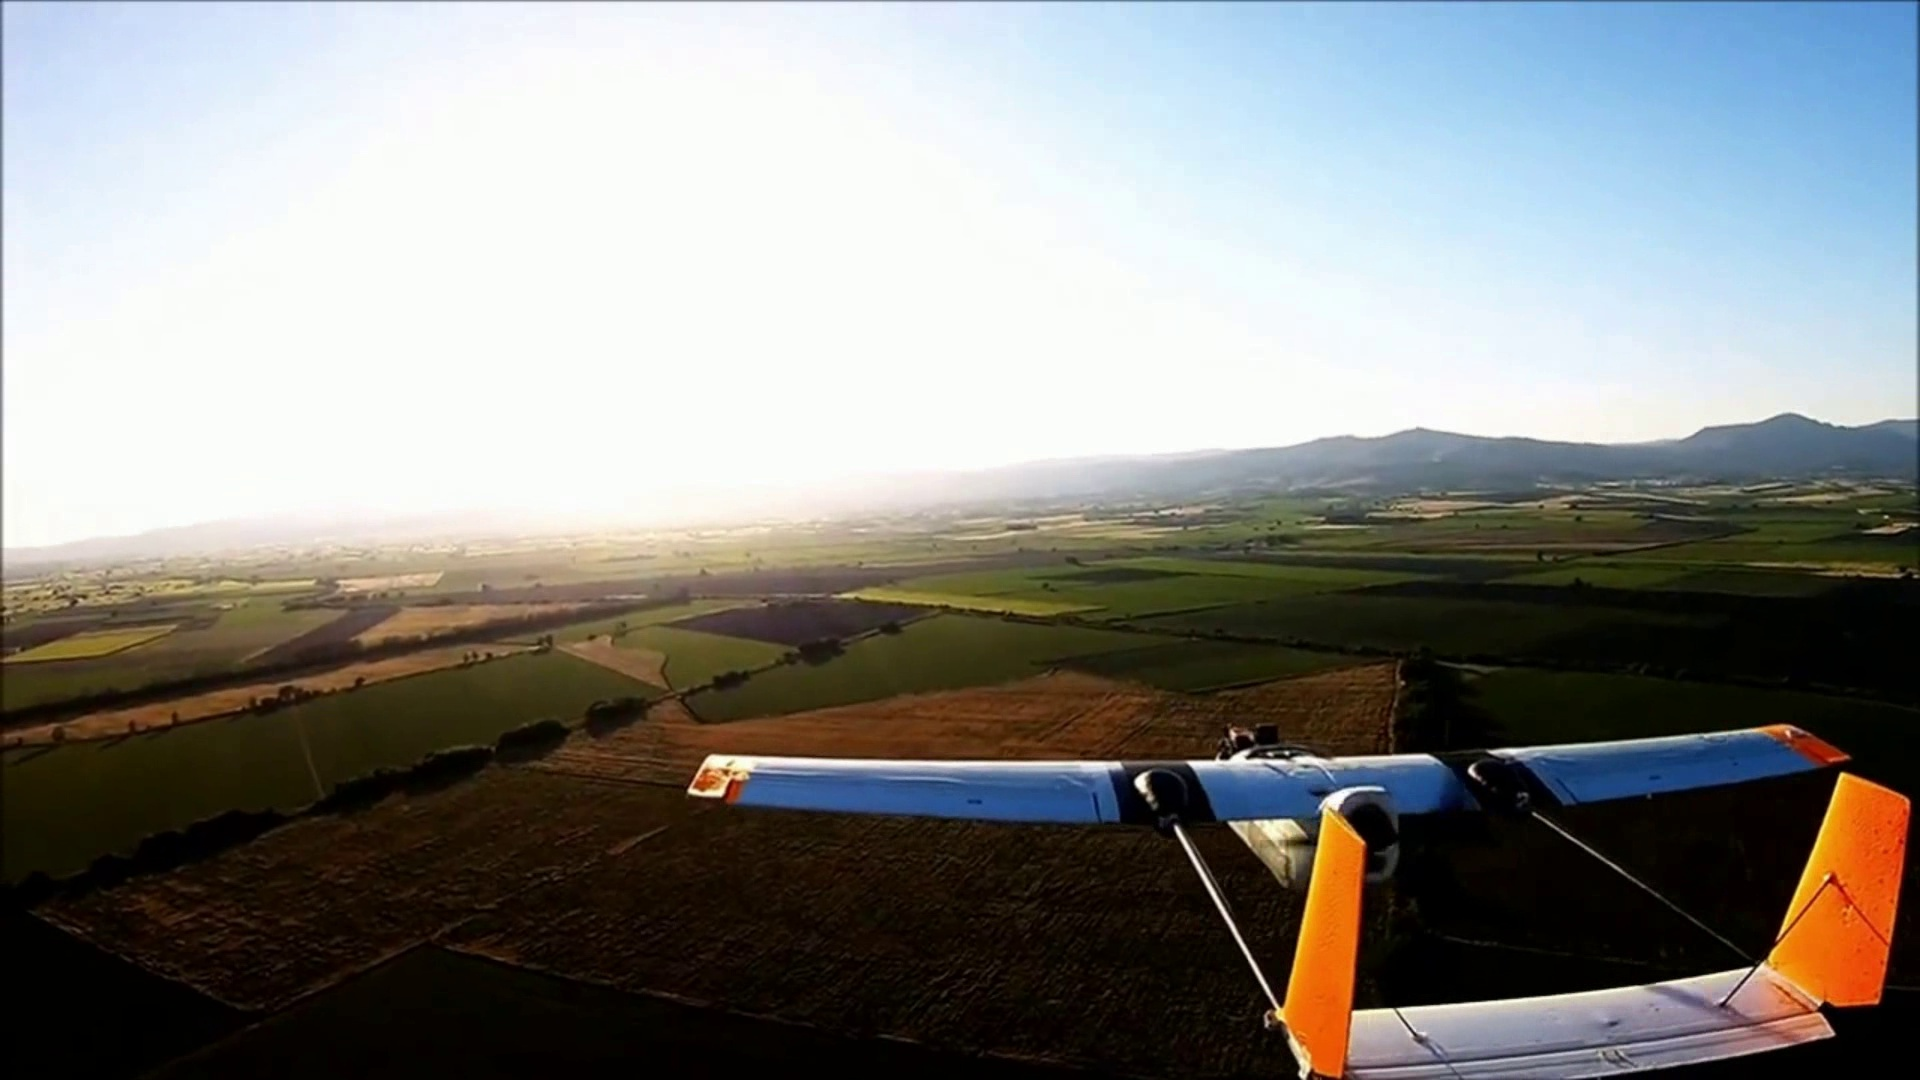airplane: (692, 723, 1915, 1066)
